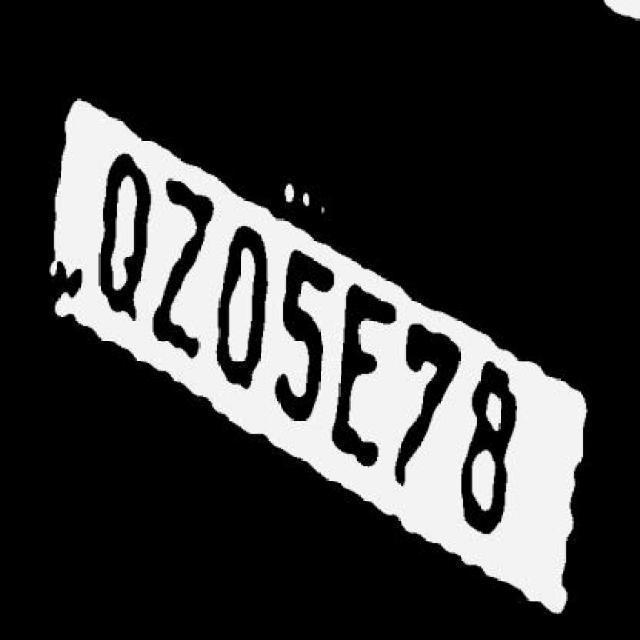5: (272, 247, 336, 436)
7: (388, 326, 466, 486)
8: (447, 360, 535, 549)
e: (322, 278, 400, 466)
o: (212, 220, 272, 398)
q: (96, 136, 152, 312)
z: (150, 164, 218, 364)
